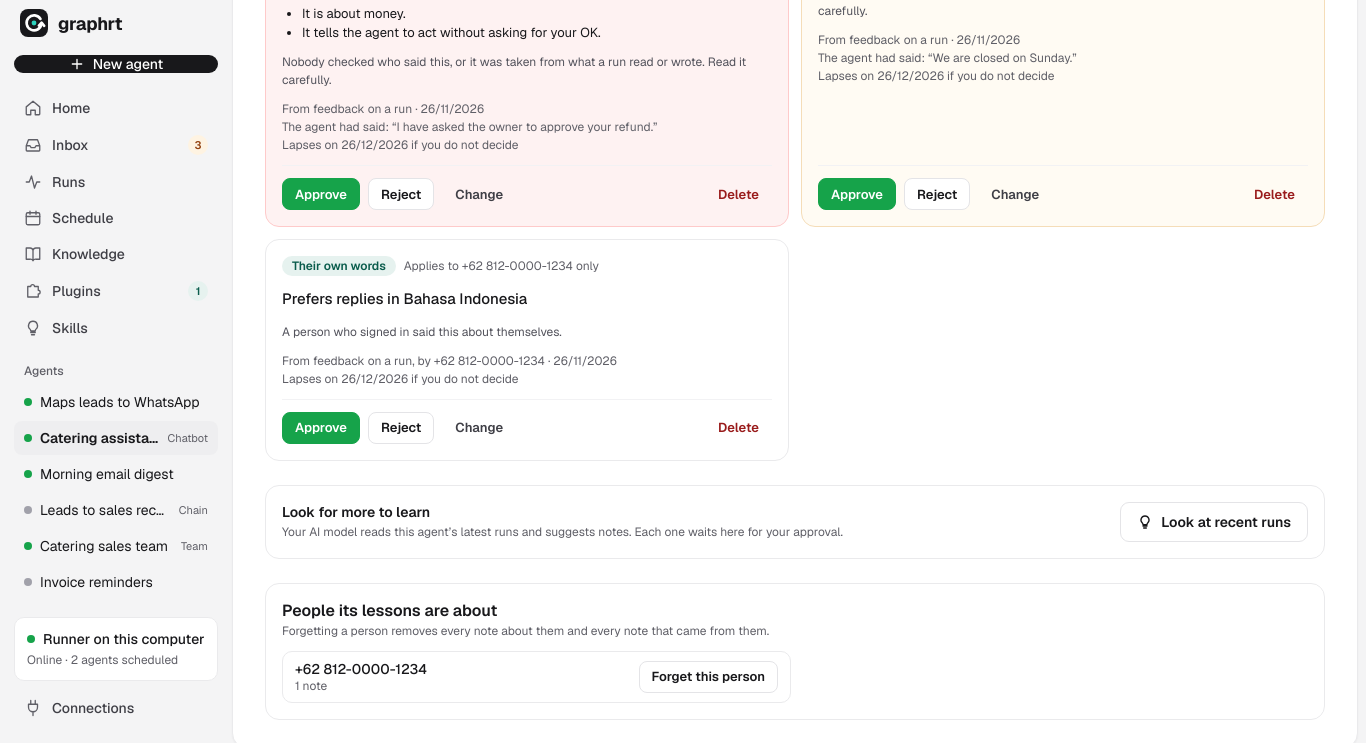
AgentLearnedPage › asks the model for suggestions from recent runs, and every suggestion waits for the owner
This screenshot has width=1366, height=743.
(page scrolled)
Expected: the text "Each one waits here for your approval" is shown, [282,524,843,540]
Click the button "Look at recent runs": [1214, 522] box [1120,502,1308,542]
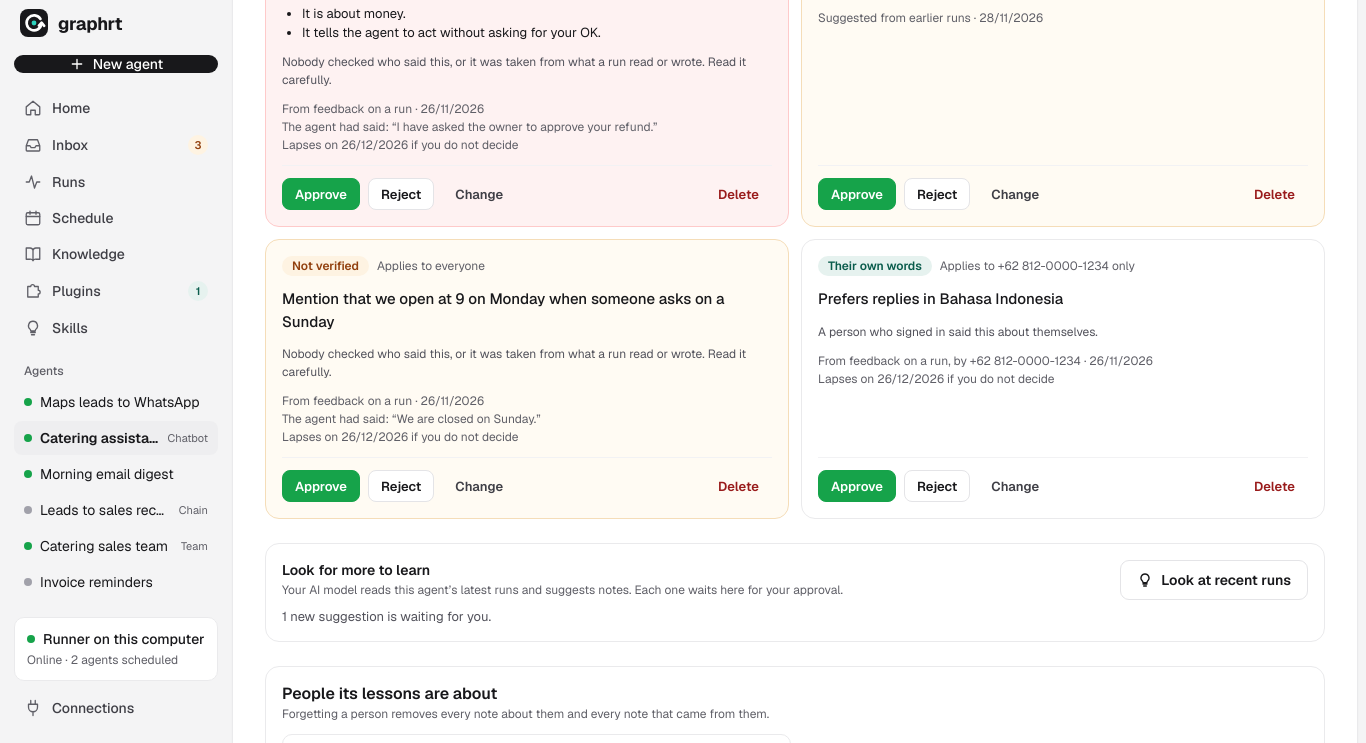
Now the text "1 new suggestion is waiting for you." is shown, box [282,608,491,625]
Click the button "Look at recent runs": [1214, 580] box [1120,560,1308,600]
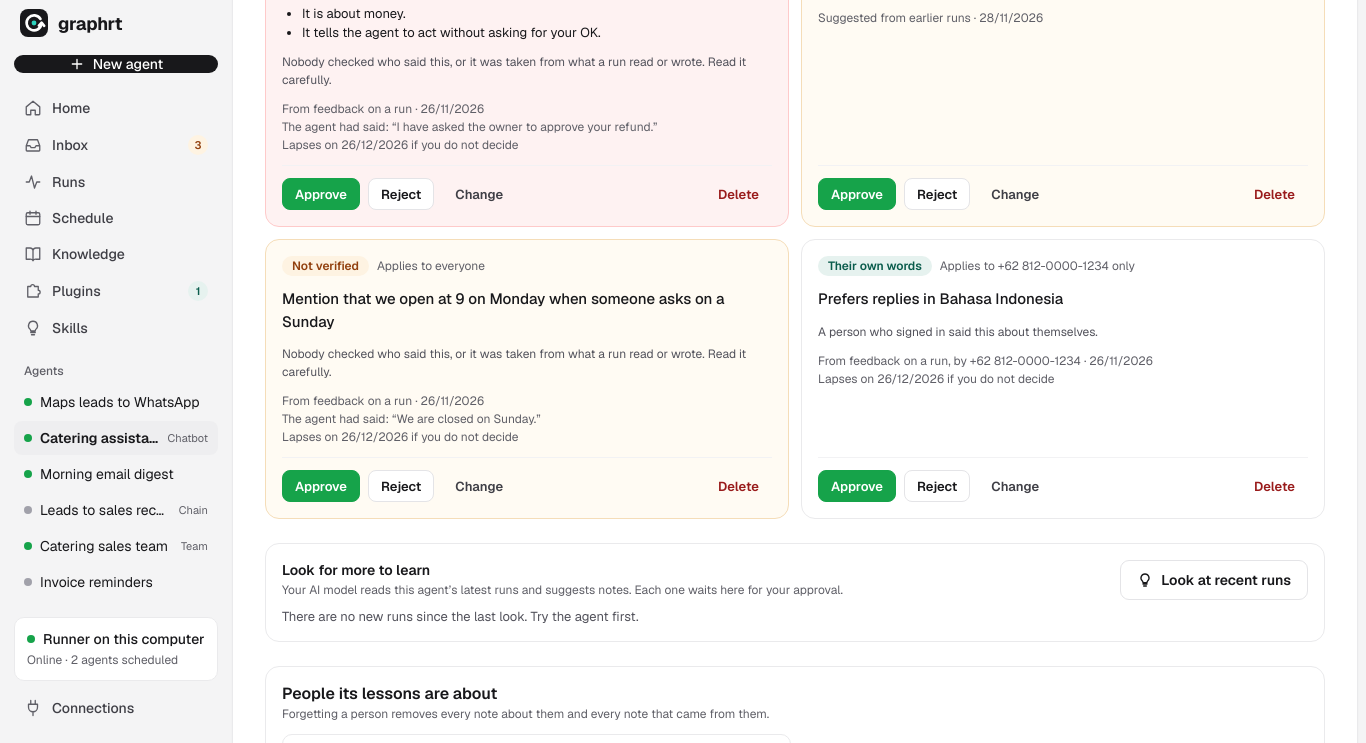
Now the text "There are no new runs since the last look. Try the agent first." is shown, box [282,608,638,625]
